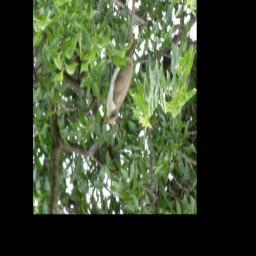Cuckoo: (102, 0, 138, 129)
